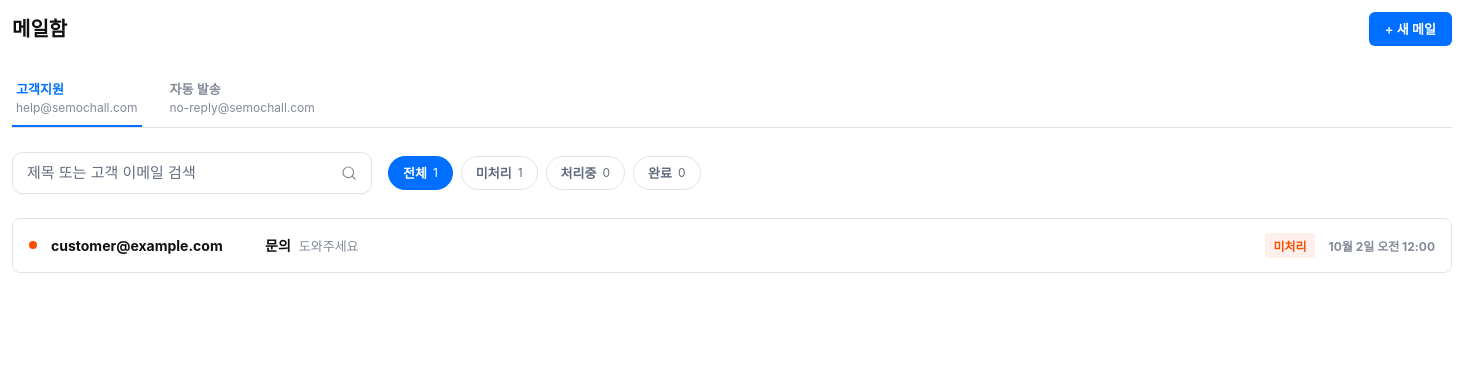
Test case: AdminEmailsScreen › shows and hides the selected automated email text body
Click the tab "자동 발송 no-reply@semochall.com" at (242, 99), box [166, 70, 319, 127]
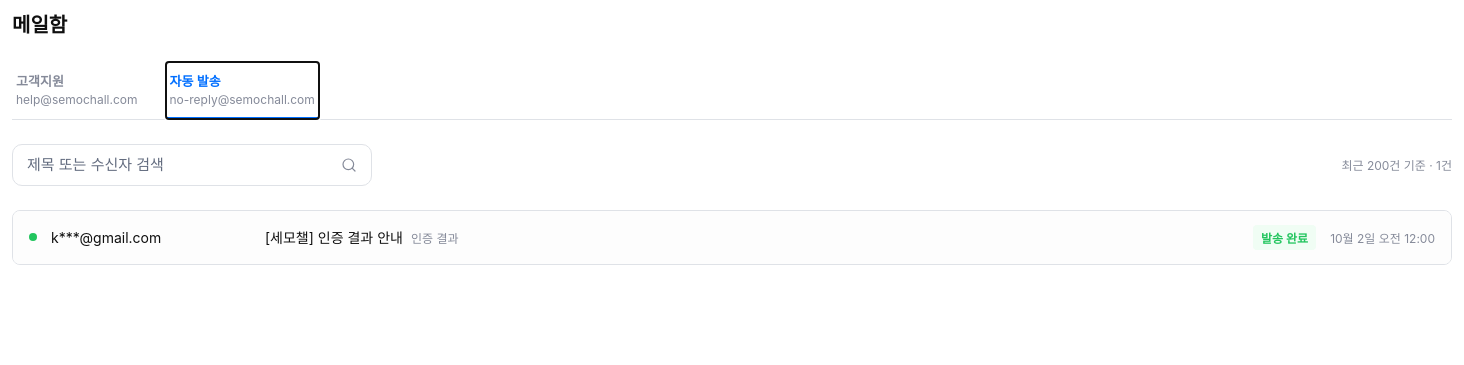
Click the button "인증 결과 안내" at (106, 237), box [13, 211, 1451, 264]
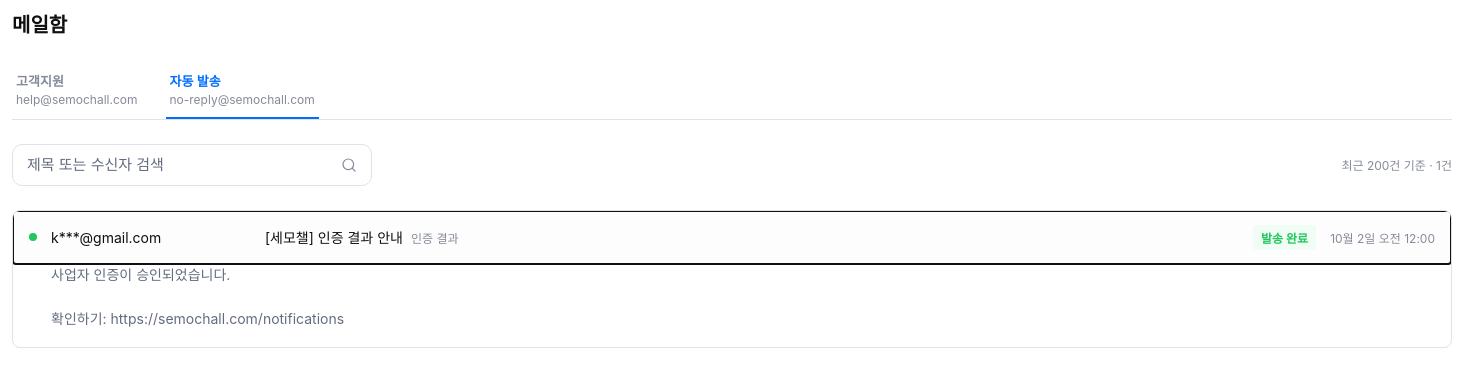
Expected: the text "사업자 인증이 승인되었습니다. 확인하기: https://semochall.com/notifications" is shown, [51, 266, 344, 328]
Click the button "인증 결과 안내" at (106, 237), box [13, 211, 1451, 264]
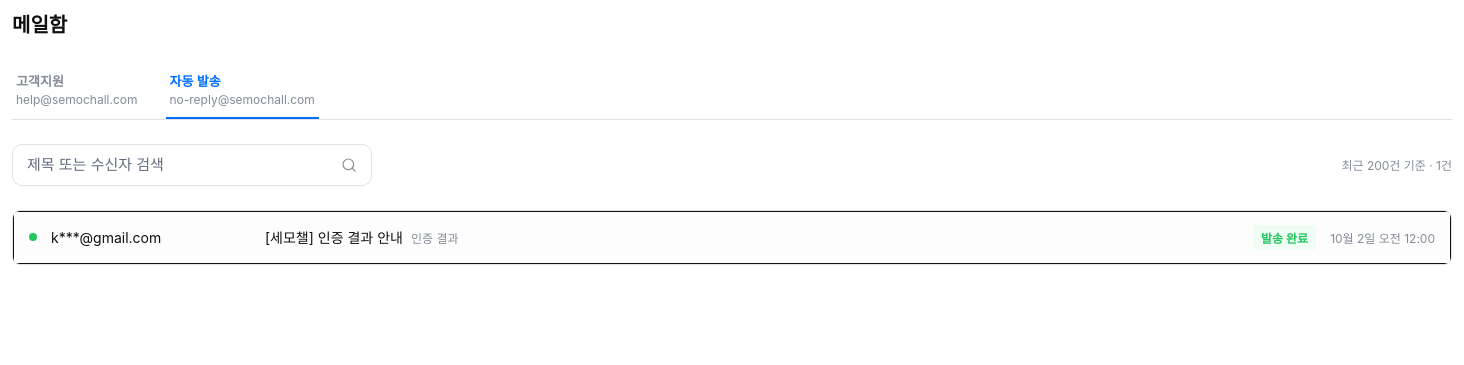
Expected: the text "사업자 인증이 승인되었습니다" is gone
